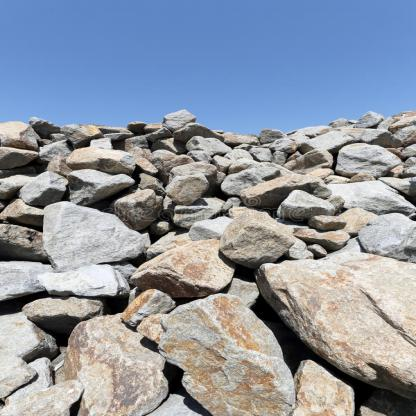Sedimentary_Limestone: (251, 244, 415, 404), (143, 284, 294, 416), (37, 201, 153, 276), (330, 138, 405, 184)
